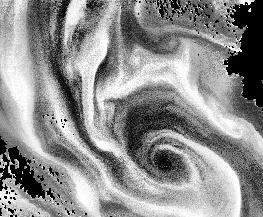CE: (124, 123, 209, 197)
